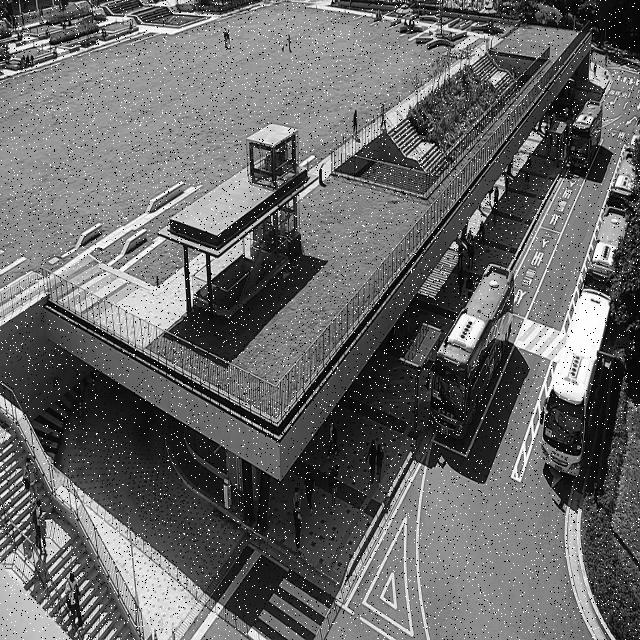queue: (415, 329, 439, 432)
